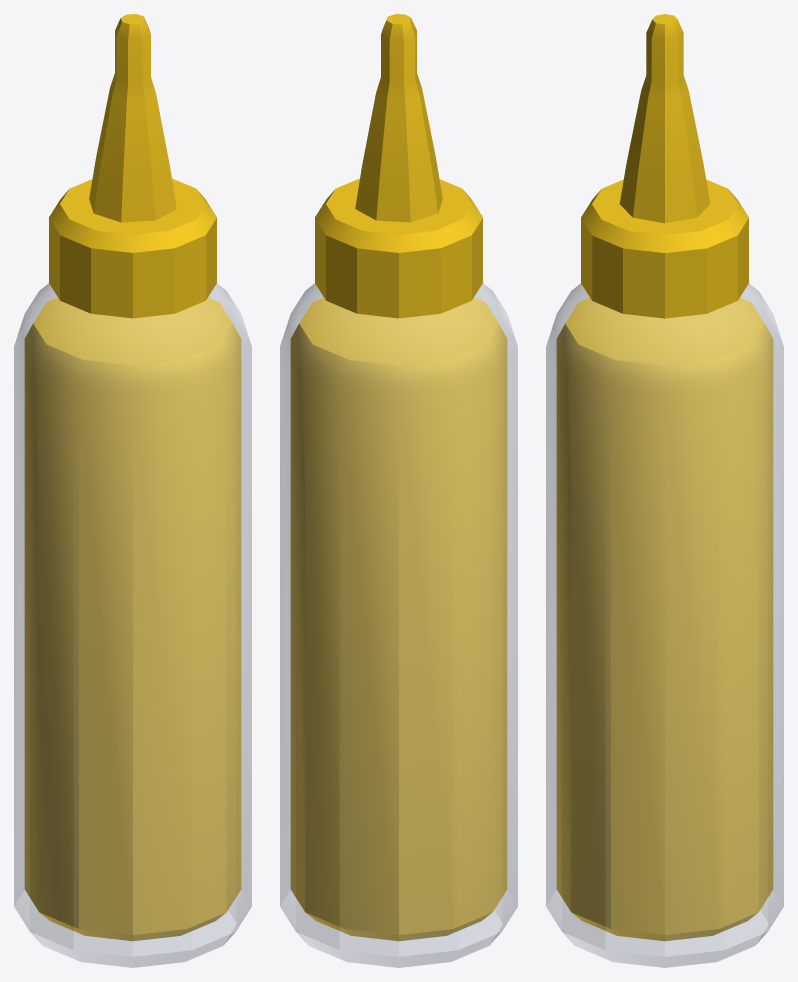
Rendered from pomo_aderezo.glb.
3 views of the same model, side by side, from view 1: azimuth 30°, elevation 25°; view 2: azimuth 150°, elevation 25°; view 3: azimuth 270°, elevation 25° (orthographic).
Visible parts, largest first — view 1: pomo_aderezo_envase, pieza_relleno, pieza_tapa; view 2: pomo_aderezo_envase, pieza_relleno, pieza_tapa; view 3: pomo_aderezo_envase, pieza_relleno, pieza_tapa.
Part boxes in pixels (x1,y1,x2,y2): pomo_aderezo_envase: (14,283,251,967); pieza_relleno: (24,297,241,941); pieza_tapa: (49,14,216,318); pomo_aderezo_envase: (280,283,517,967); pieza_relleno: (290,297,507,941); pieza_tapa: (315,14,482,318); pomo_aderezo_envase: (546,283,783,967); pieza_relleno: (556,298,773,941); pieza_tapa: (581,14,748,318).
Size of what is drawn, in the model's own units: 0.056 by 0.235 by 0.056.
